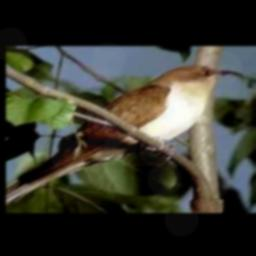Cuckoo: (6, 65, 243, 201)
